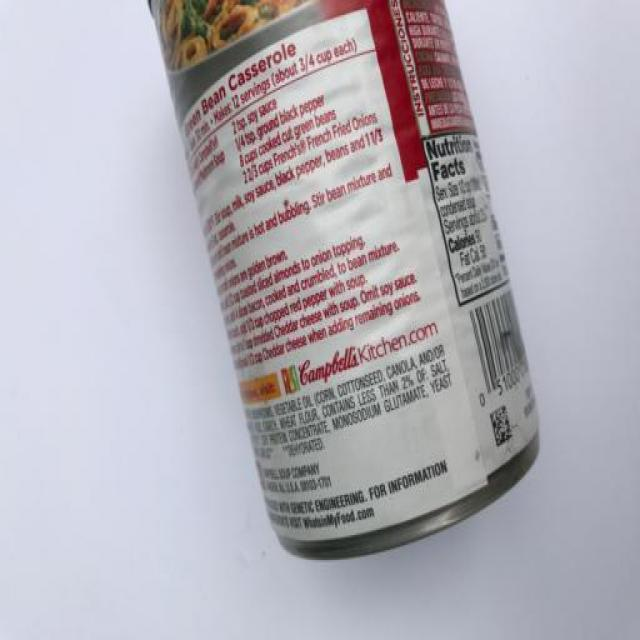metel: (169, 1, 544, 539)
